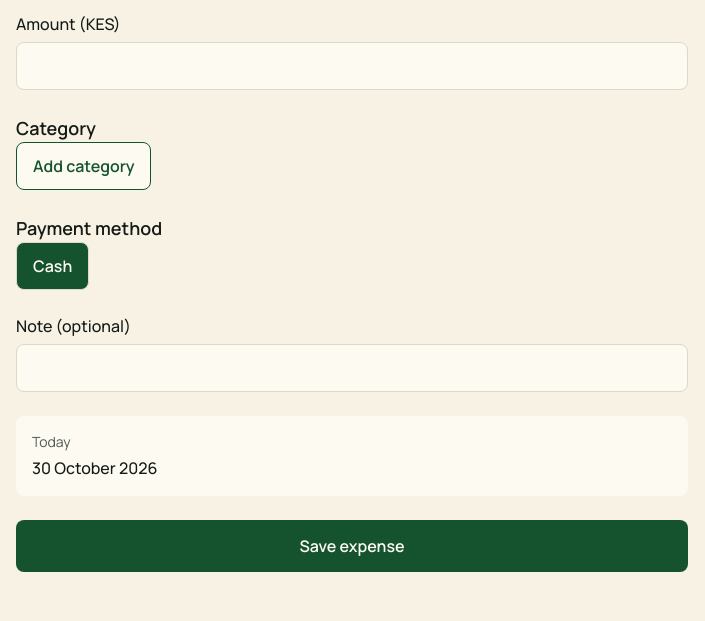
it: NewExpenseForm › requires a category before saving
The width and height of the screenshot is (705, 621).
In the field labelled "Amount (KES)": (352, 66) x1=16 y1=42 x2=688 y2=90, type "100"
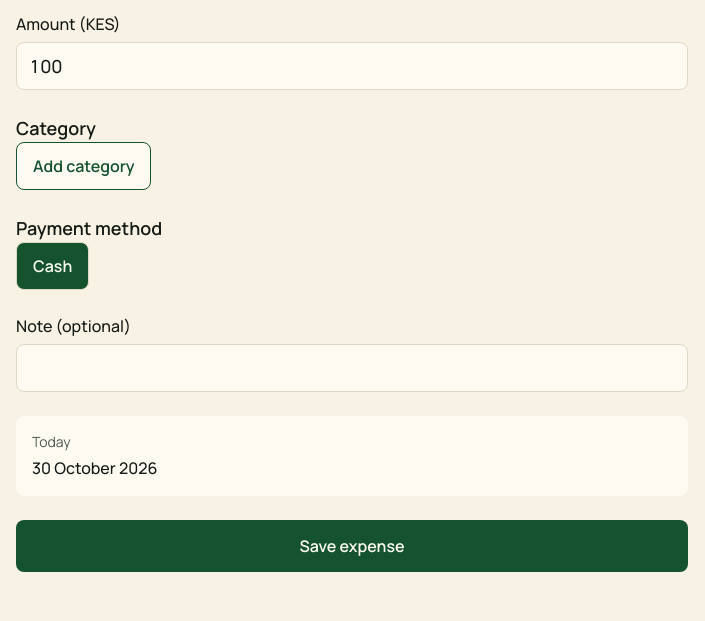
Click the button "Save expense": (352, 546) x1=16 y1=520 x2=688 y2=572
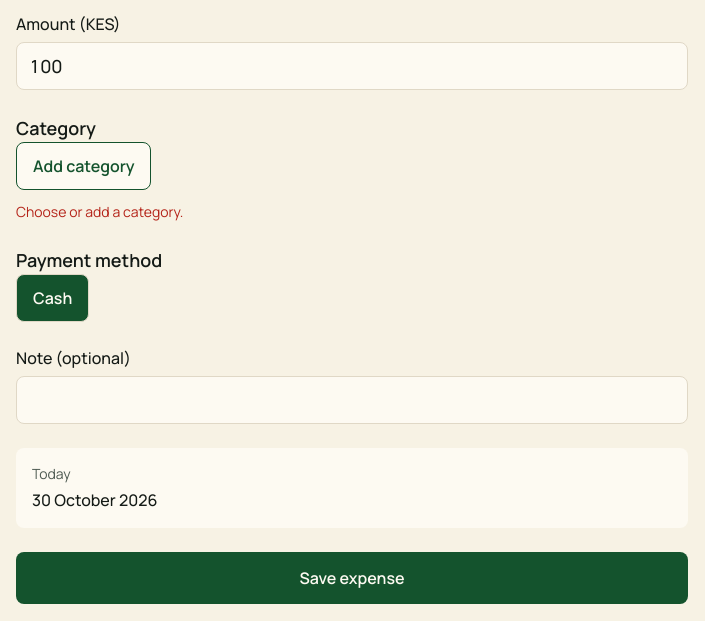
Expected: the text "Choose or add a category." is shown, x1=16 y1=202 x2=183 y2=221
